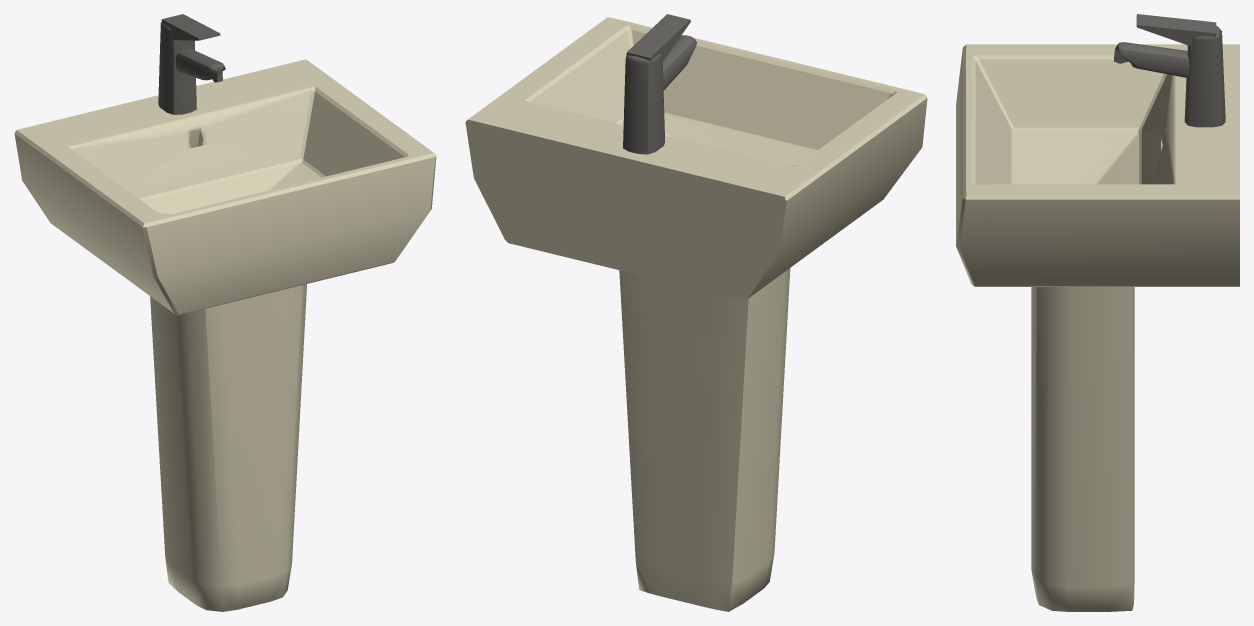
Rendered from Sink.fbx.
3 renders of one model, left to right at view 1: azimuth 30°, elevation 25°; view 2: azimuth 150°, elevation 25°; view 3: azimuth 270°, elevation 25°, orthographic. The views are drawn at different scales.
Parts seen in each view (by area): view 1: Sink; view 2: Sink; view 3: Sink.
Boxes of the visible parts, <box> form: Sink: <box>14,14,436,611</box>; Sink: <box>465,14,927,611</box>; Sink: <box>956,14,1239,611</box>.
Size of the model in its own units: 2.88 by 5 by 2.25.
